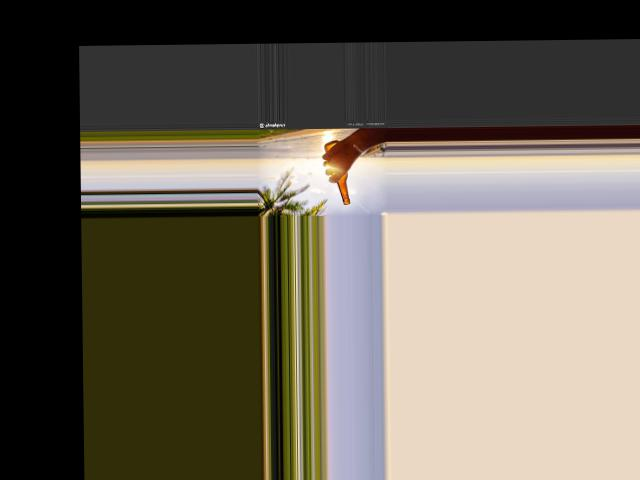beer: (324, 139, 351, 204)
